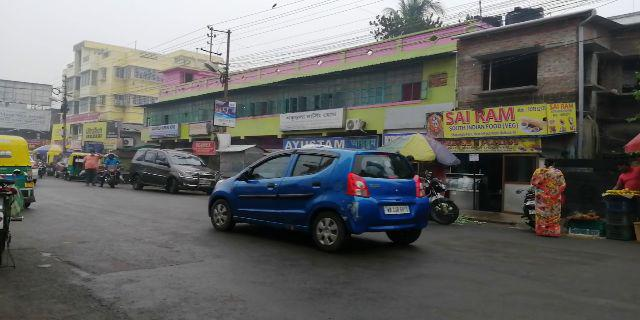Autorickshaw: (1, 131, 39, 210)
Car: (207, 149, 429, 248), (126, 150, 206, 197)
